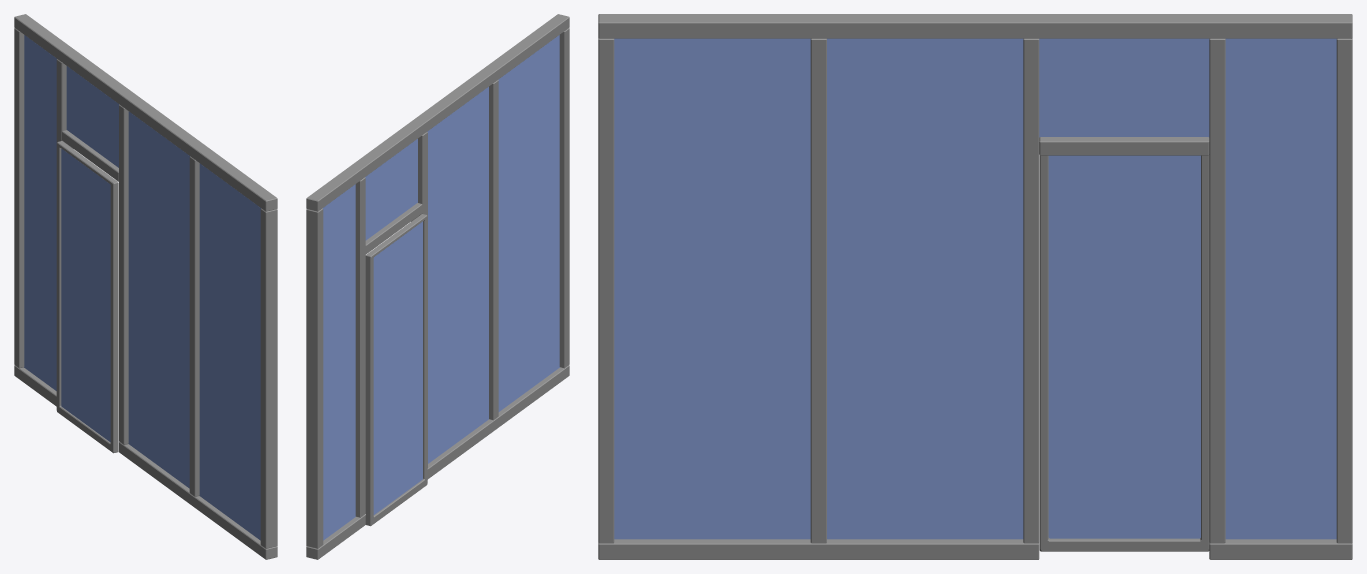
The model's file is slidingDoor&wall.fbx.
3 views of the same model, side by side, from view 1: azimuth 30°, elevation 25°; view 2: azimuth 150°, elevation 25°; view 3: azimuth 270°, elevation 25° (orthographic). The views are drawn at different scales.
Visible parts, largest first — view 1: GlassWall, SlidingDoor; view 2: GlassWall, SlidingDoor; view 3: GlassWall, SlidingDoor.
Part boxes in pixels (x1,y1,x2,y2): GlassWall: [14, 14, 277, 559]; SlidingDoor: [56, 141, 118, 453]; GlassWall: [306, 14, 569, 559]; SlidingDoor: [365, 214, 427, 526]; GlassWall: [598, 14, 1352, 559]; SlidingDoor: [1039, 155, 1209, 551].
Size of the model in its own units: 14.19 by 279 by 355.
